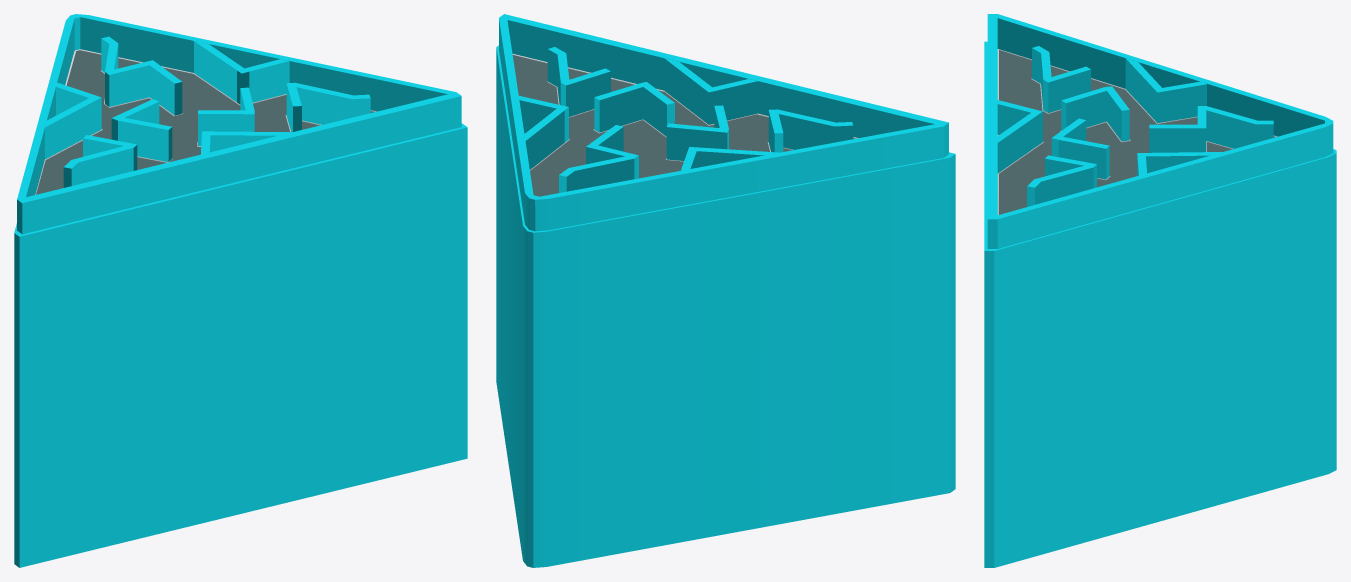
The model's file is Level_18.FBX.
3 views of the same model, side by side, from view 1: azimuth 30°, elevation 25°; view 2: azimuth 150°, elevation 25°; view 3: azimuth 270°, elevation 25° (orthographic). The views are drawn at different scales.
Visible parts, largest first — view 1: Level_18; view 2: Level_18; view 3: Level_18.
Part boxes in pixels (box(x1,y1,x2,y2)): Level_18: box(14, 14, 467, 567); Level_18: box(496, 14, 955, 567); Level_18: box(984, 14, 1336, 567).
Size of the model in its own units: 193 by 149 by 138.
